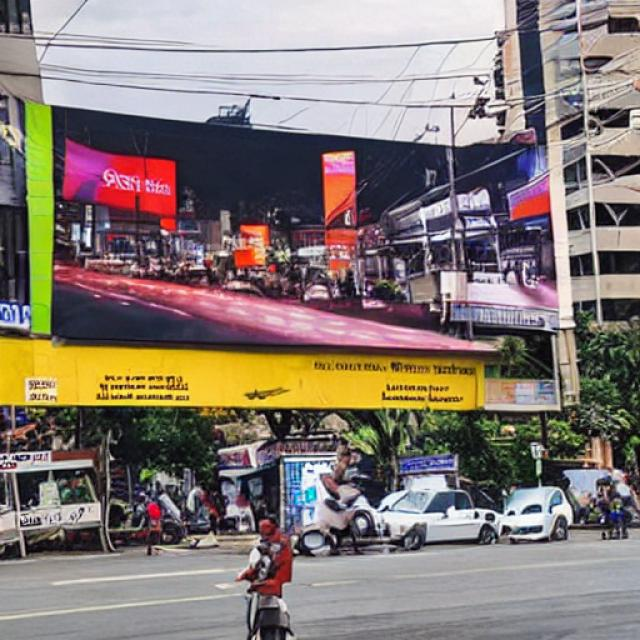Billboard: (1, 95, 563, 411)
